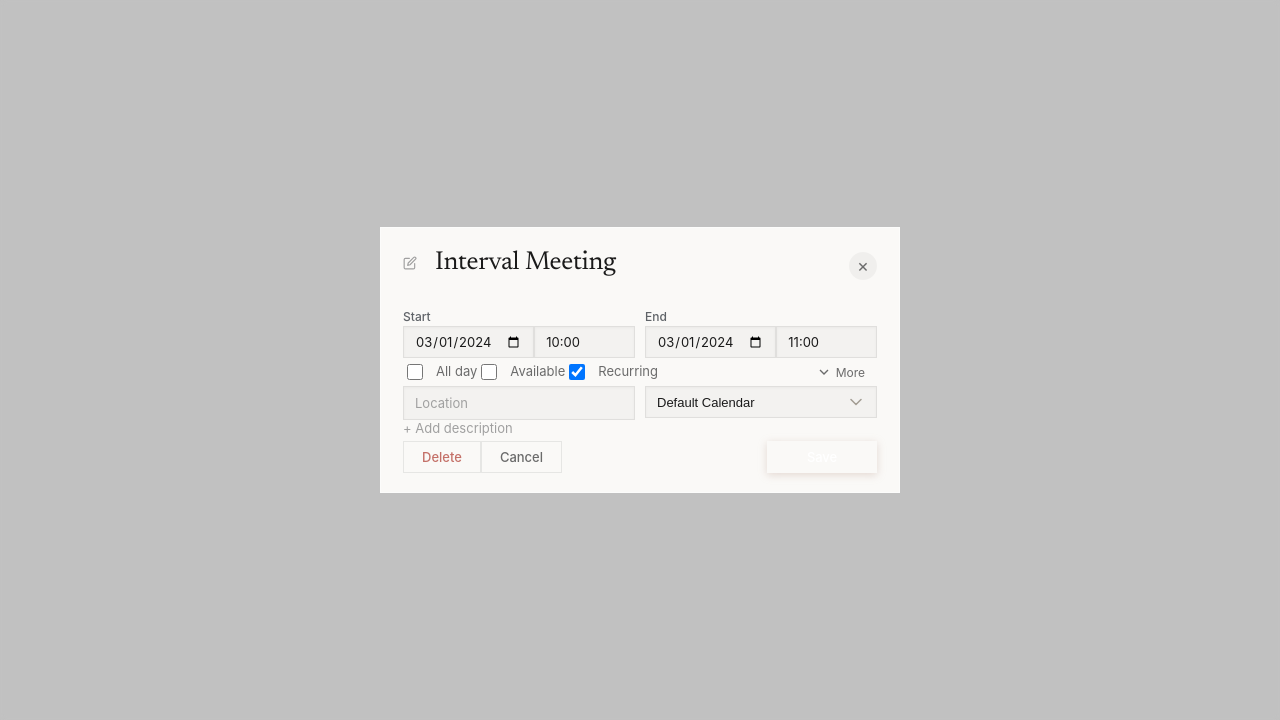
Test: EventModal › hasChanges with recurrence › shows RecurrenceDialog when changing interval on recurring event
The width and height of the screenshot is (1280, 720).
Note: Click More to open recurrence controls
Click the button "More" at [840, 372], box [804,358,877,386]
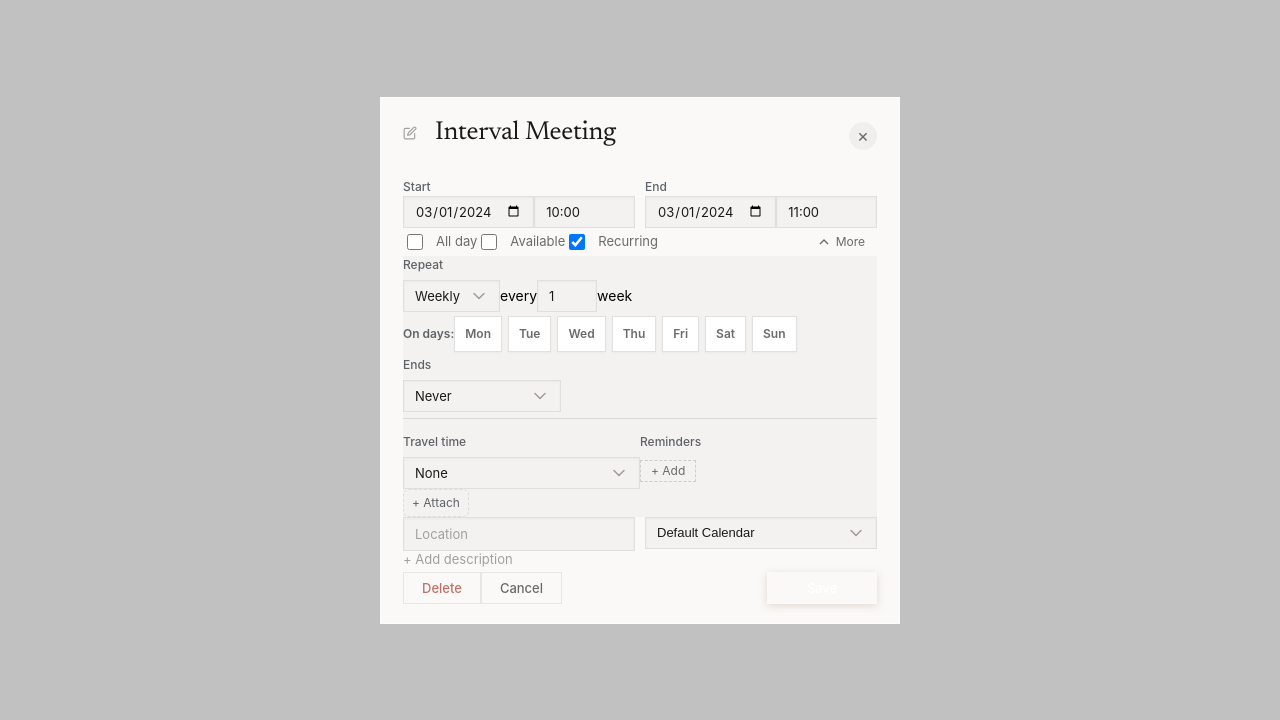
Note: Change interval from 1 to 2
Replace the text in the number field named "Repeat interval" with "2" at [567, 296], box [537,280,597,312]
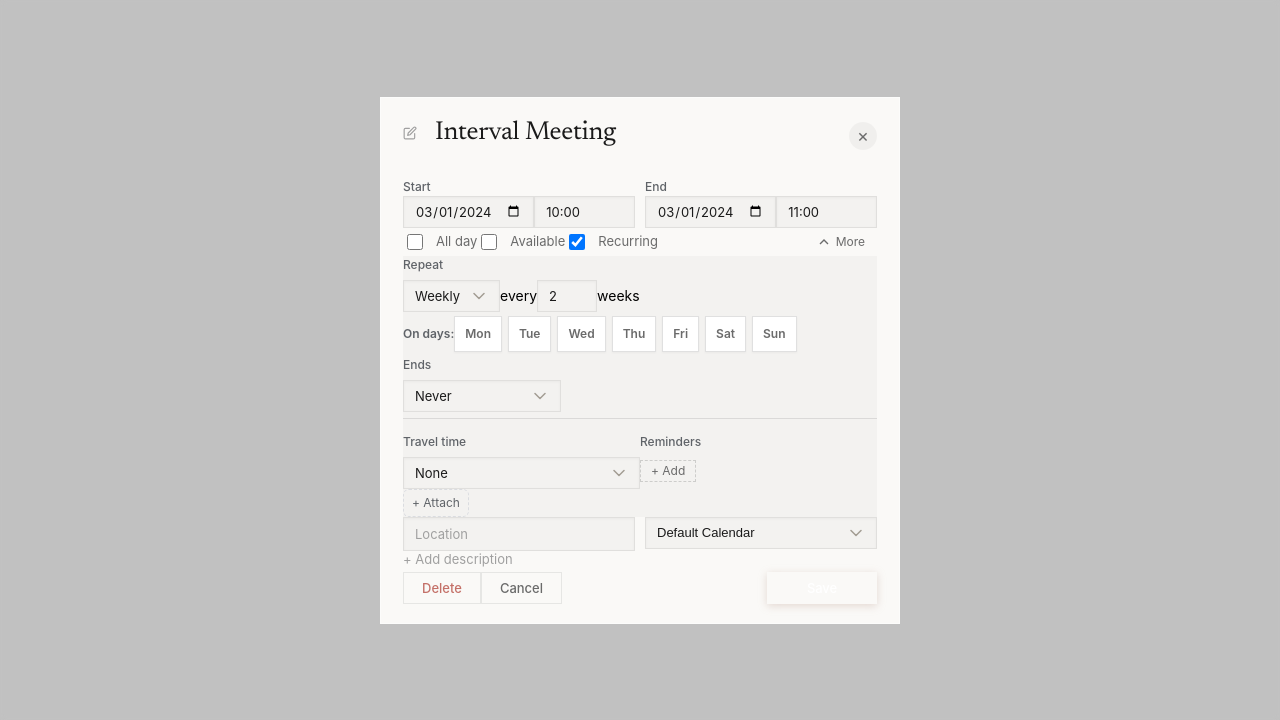
Note: Click Save
Click the button "Save" at [822, 588], box [767,572,877,604]
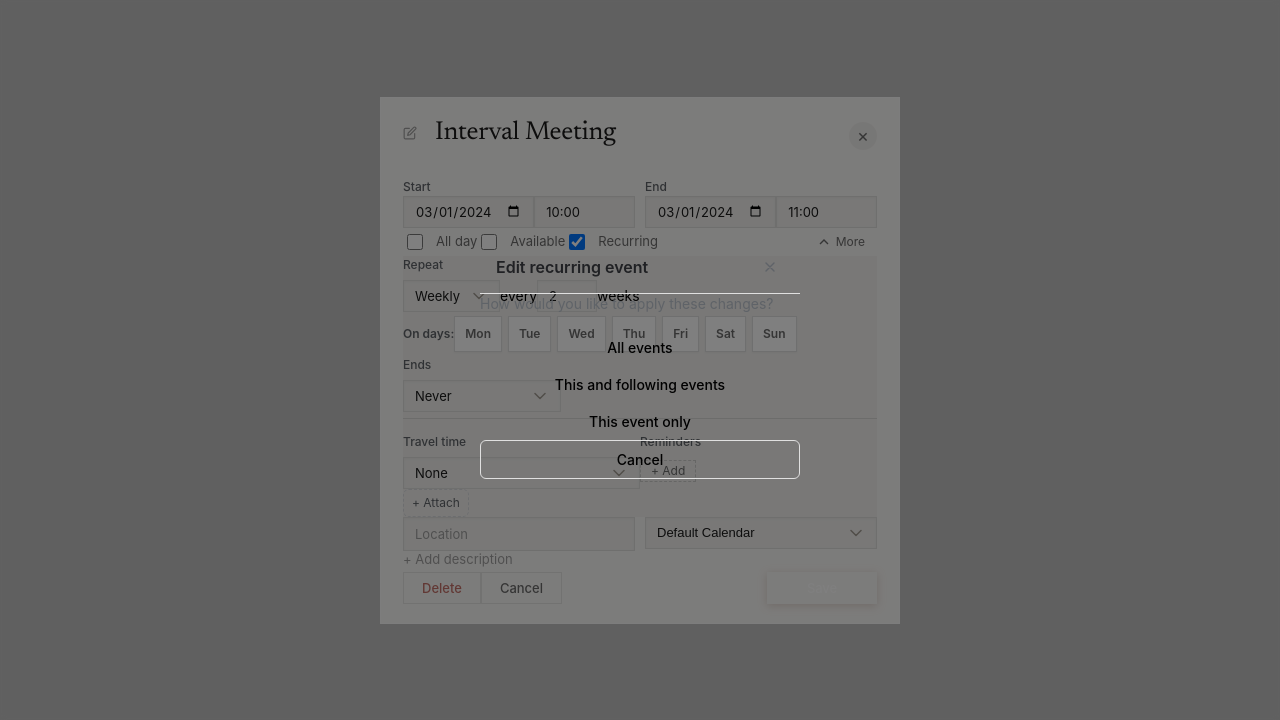
Expected: the heading "Edit recurring event" is shown, [496,255,648,279]
